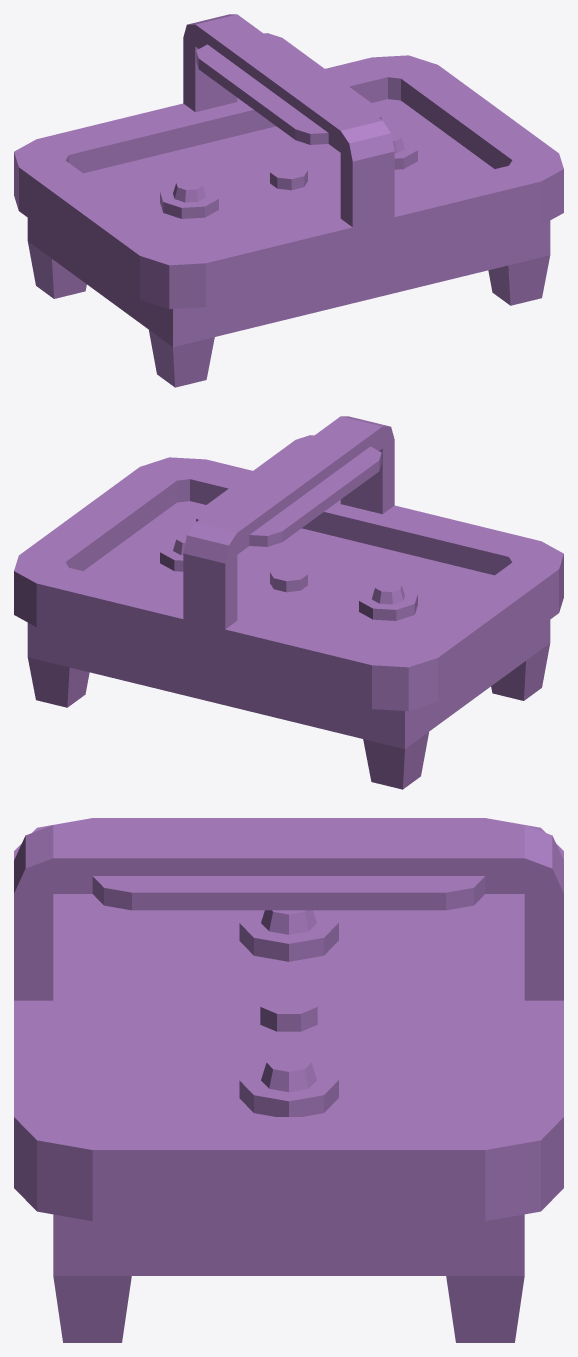
The model's file is air-hockey.obj.
3 renders of one model, top to bottom at view 1: azimuth 30°, elevation 25°; view 2: azimuth 150°, elevation 25°; view 3: azimuth 270°, elevation 25°, orthographic. The views are drawn at different scales.
Size of the model in its own units: 1 by 0.5 by 0.7.
